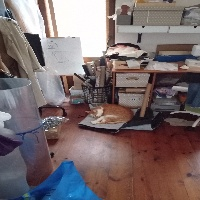asleep: (85, 104, 134, 125)
